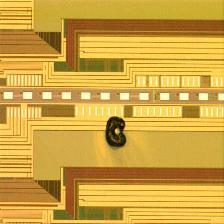PARTICLE: (104, 114, 131, 153)
